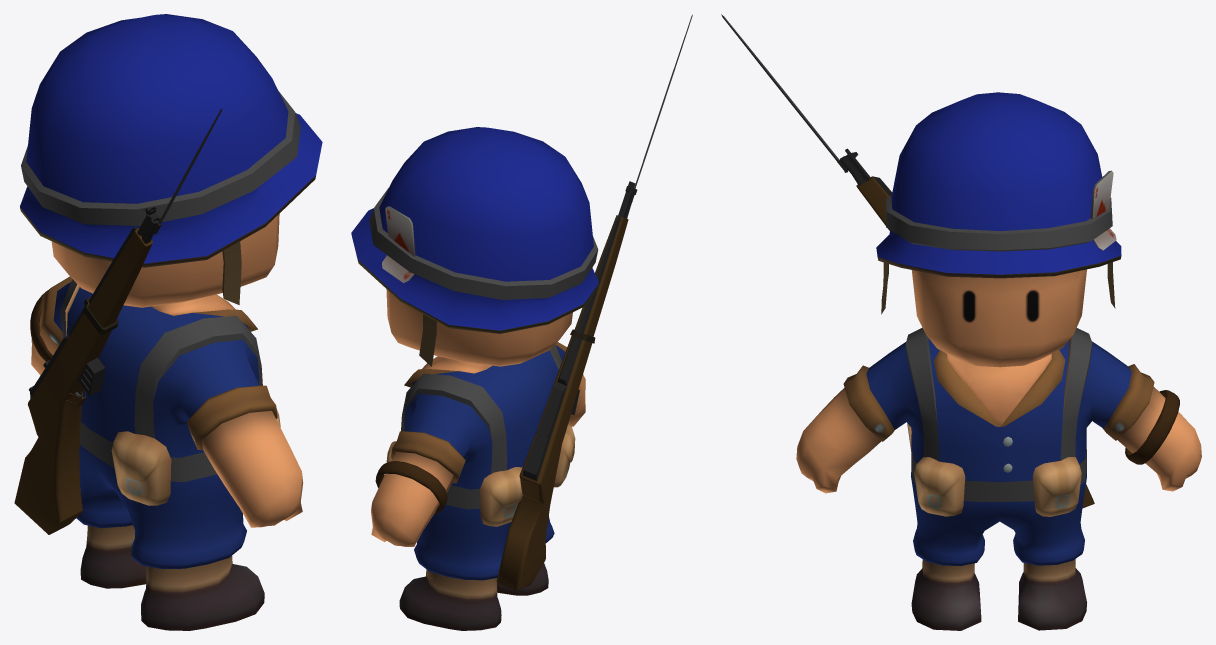
Rendered from StumbleBlue 1.fbx.
The picture shows the model from 3 angles, left to right: view 1: azimuth 30°, elevation 25°; view 2: azimuth 150°, elevation 25°; view 3: azimuth 270°, elevation 25°; orthographic projection. The views are drawn at different scales.
Visible parts, largest first — view 1: Stumble Blue; view 2: Stumble Blue; view 3: Stumble Blue.
Part boxes in pixels (box(x1,y1,x2,y2)): Stumble Blue: box(14, 14, 322, 630); Stumble Blue: box(351, 14, 692, 630); Stumble Blue: box(721, 14, 1201, 630).
Bounding box in the file's own units: 0.26 × 0.5887 × 0.47.
Materials: 9 (1 with a texture image).
